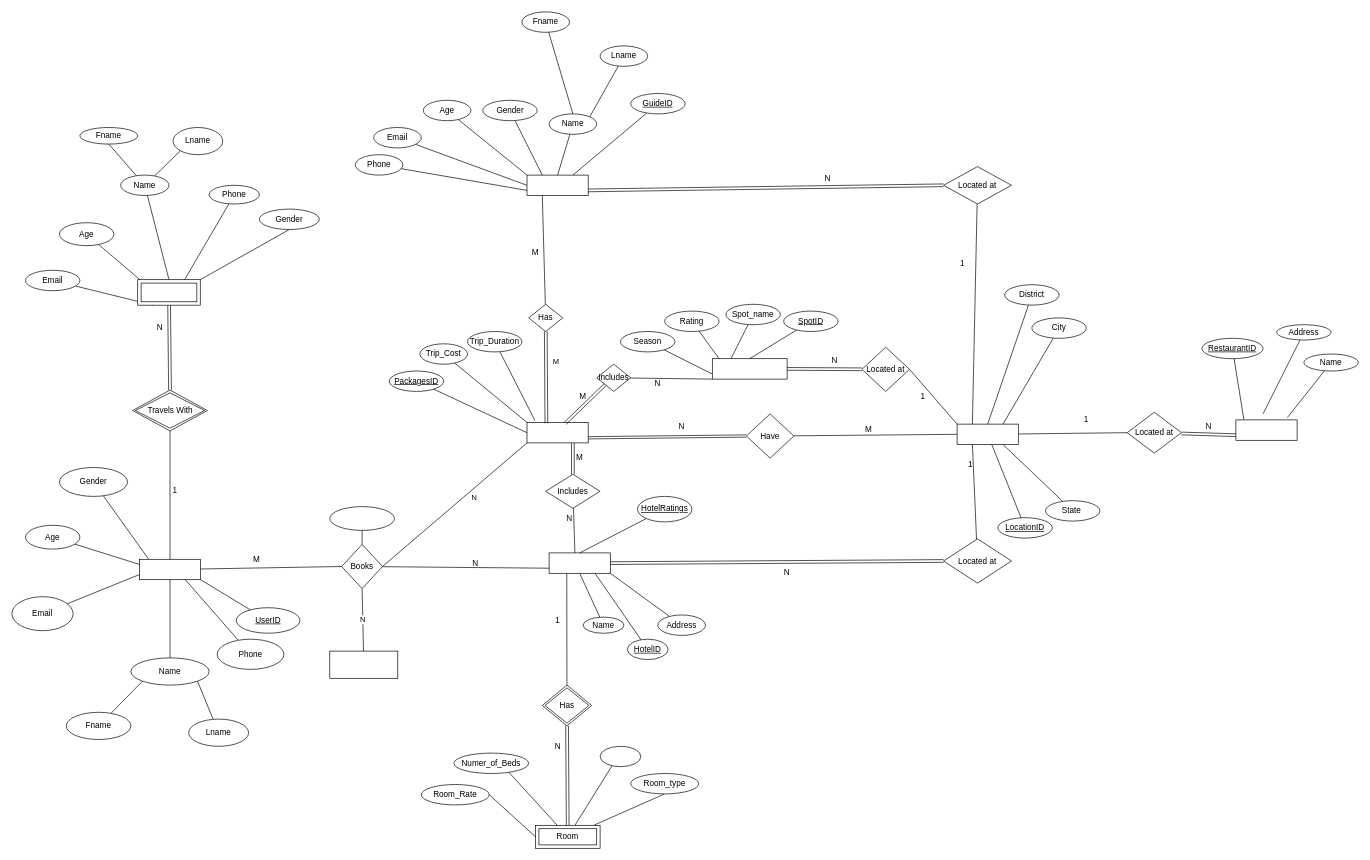
Some shapes in this 1370 by 860 pixel diagram are drawn without their labels. Each missing label, with the centre of its shape:
"Bookings" goes at [363,664].
"CoPassenger" goes at [168,292].
"Date" goes at [361,518].
"Guide" goes at [557,185].
"Hotels" goes at [579,562].
"Location" goes at [987,434].
"Packages" goes at [557,432].
"Restaurants" goes at [1266,429].
"RoomID" goes at [620,756].
"SightSeeing_Spots" goes at [749,368].
"User" goes at [170,569].
